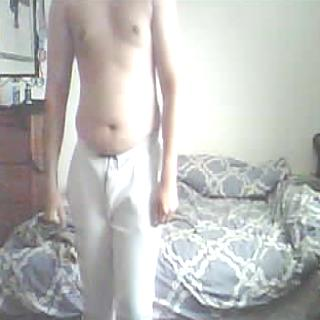White Sweatpants: (62, 128, 170, 320)
